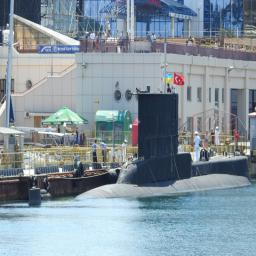submarine: (74, 91, 256, 202)
